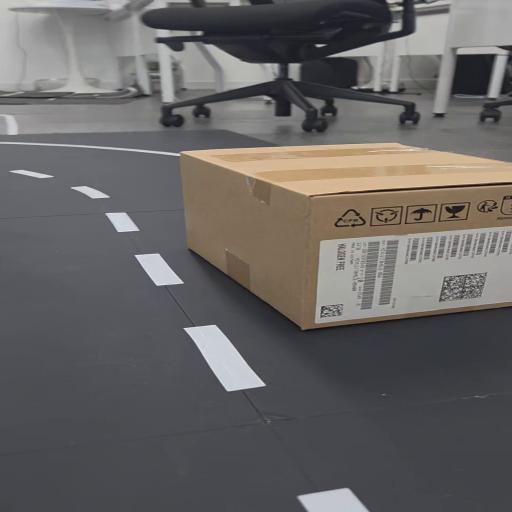Box: (148, 144, 512, 338)
